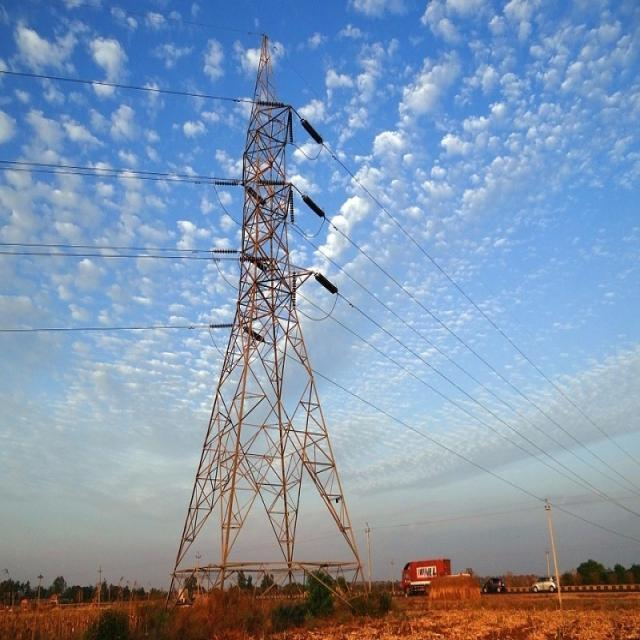non-critical vegetation: (168, 39, 378, 596)
